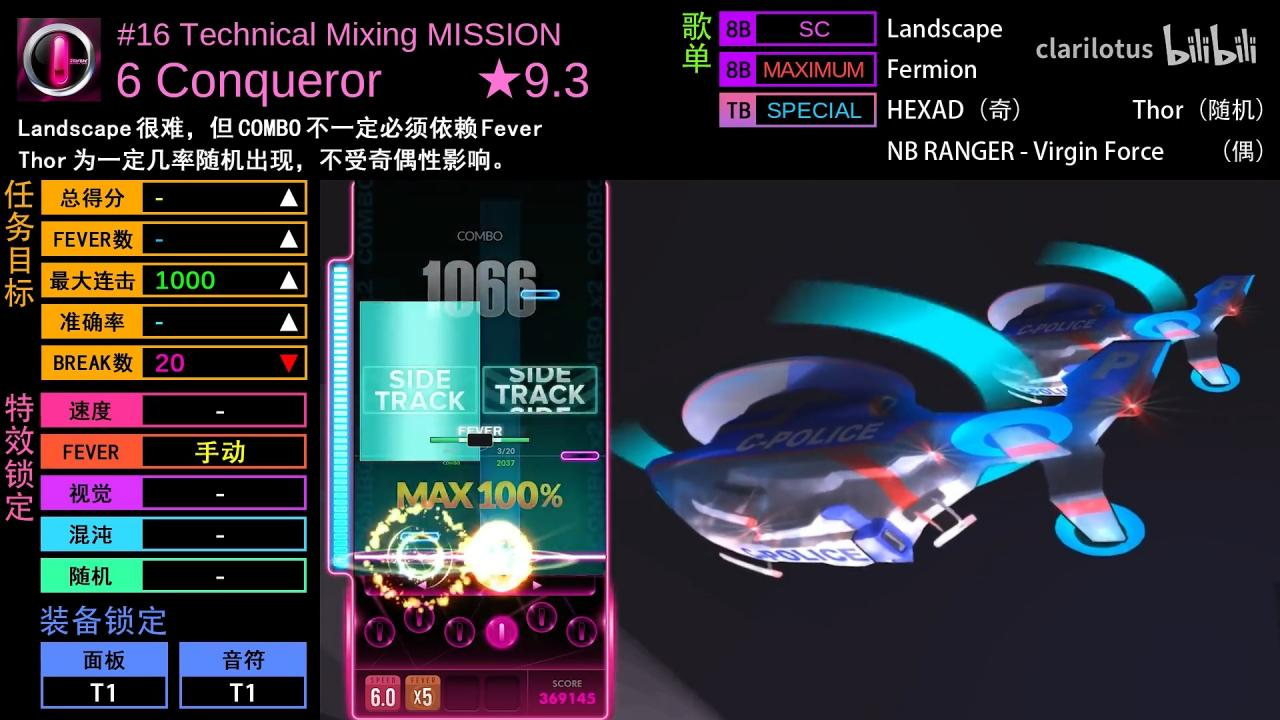note: (561, 450, 599, 461), (400, 532, 440, 542), (520, 290, 560, 299)
side-end: (360, 301, 480, 311)
side-start: (360, 450, 480, 461)
